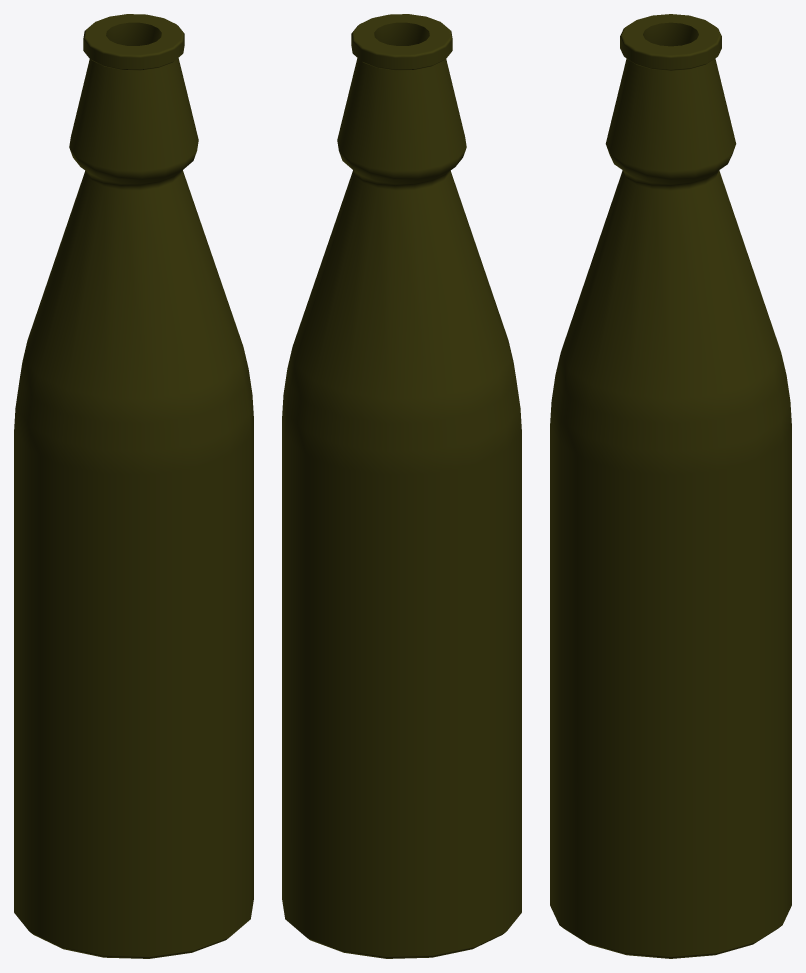
File: GlassBottle.obj
3 renders of one model, left to right at view 1: azimuth 30°, elevation 25°; view 2: azimuth 150°, elevation 25°; view 3: azimuth 270°, elevation 25°, orthographic.
Visible parts, largest first — view 1: Circle; view 2: Circle; view 3: Circle.
Part boxes in pixels (bbox=[...]): Circle: bbox=[14, 14, 253, 958]; Circle: bbox=[282, 14, 521, 958]; Circle: bbox=[550, 14, 791, 958].
Size of the model in its own units: 0.05 by 0.1998 by 0.05.
